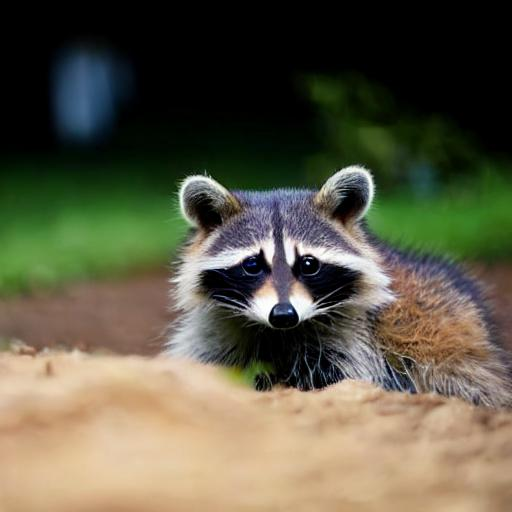raccoon: (156, 155, 512, 418)
